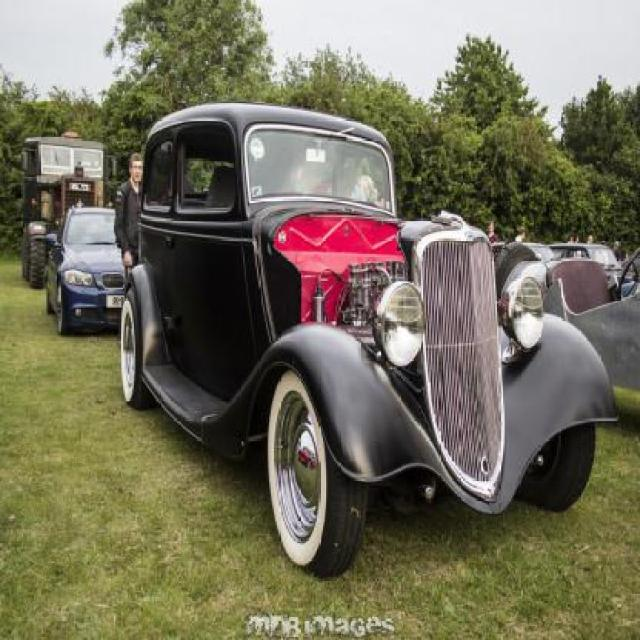License-Plates: (106, 295, 125, 308)
